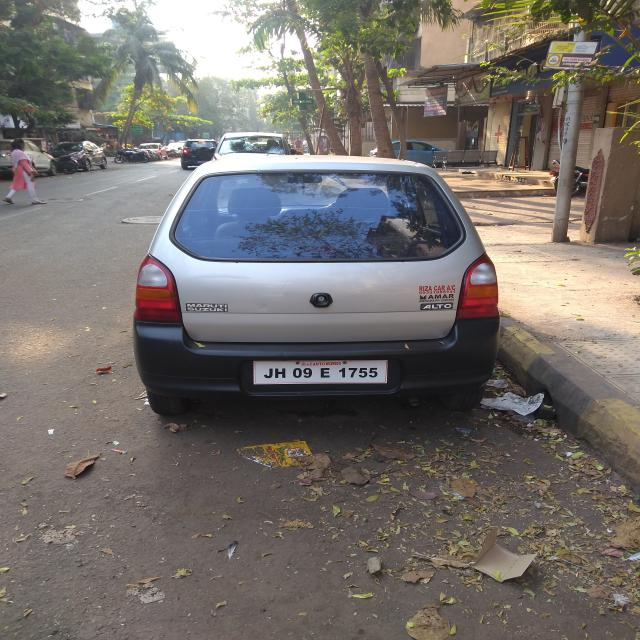Number-Plate: (256, 359, 386, 383)
